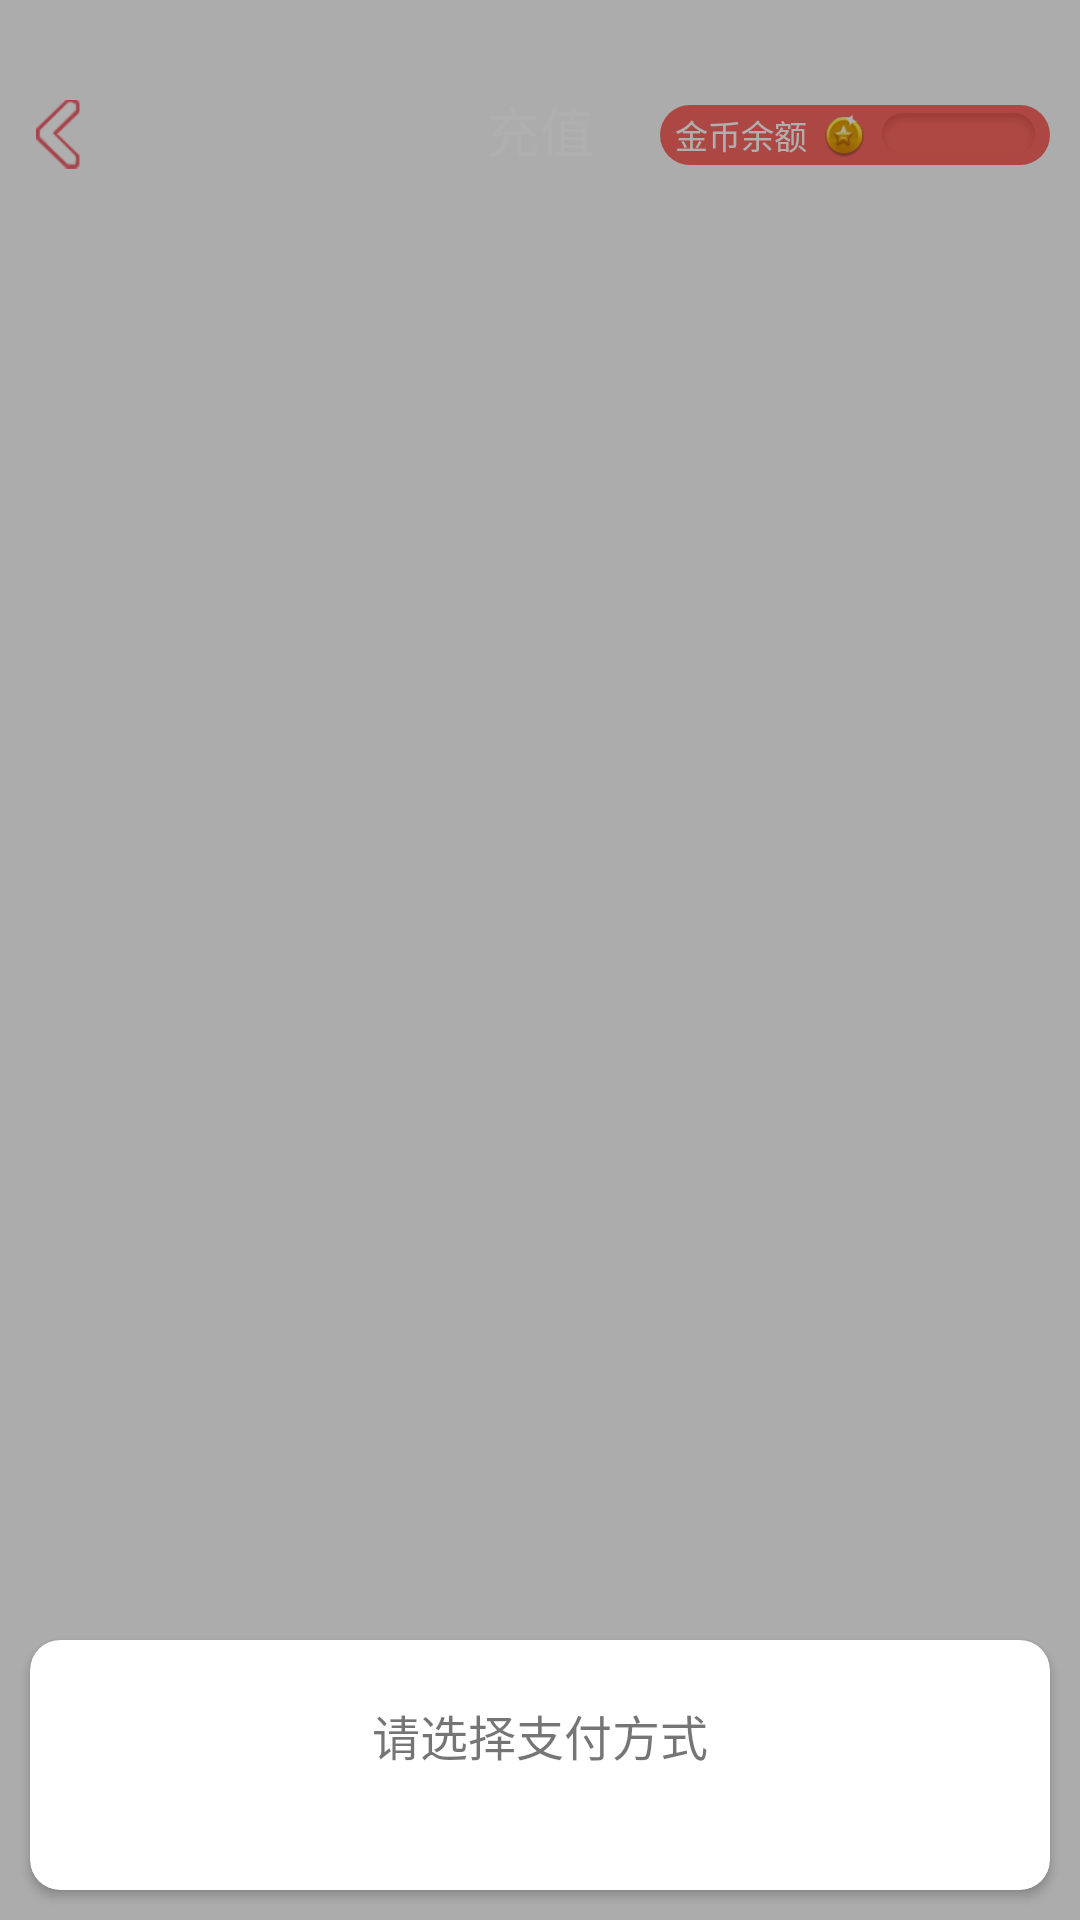

Point at icon controls on the screen. Image size 1080x1920, points as (x,y).
player back: (58,134)
satar: (844,135)
